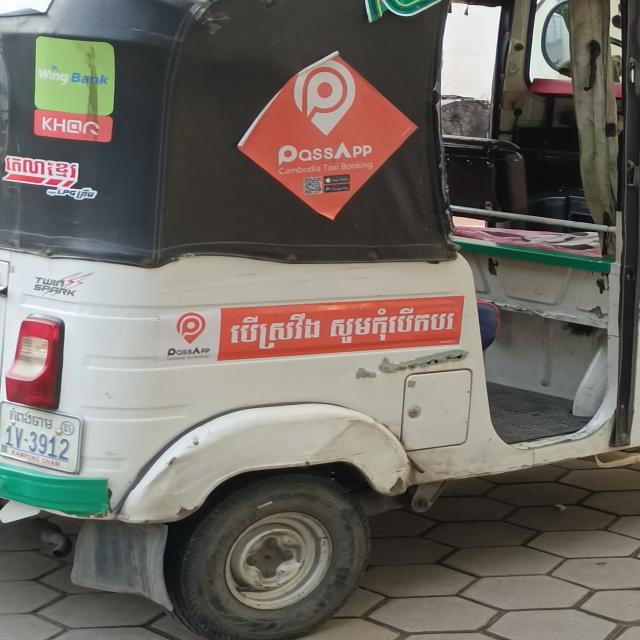1: (225, 303, 463, 352)
Yolov11_80vkh: (0, 152, 89, 183), (7, 405, 59, 433)
